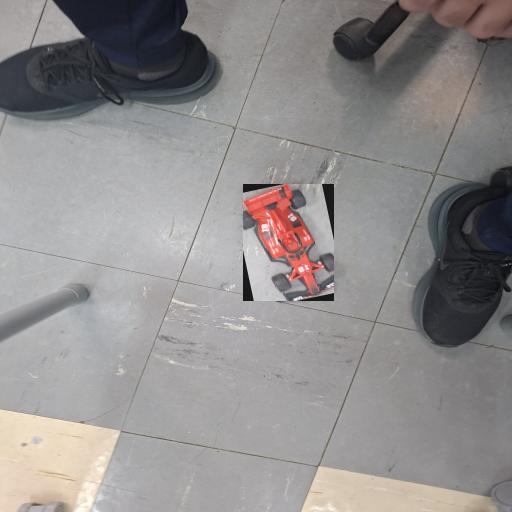carro: (243, 185, 332, 301)
